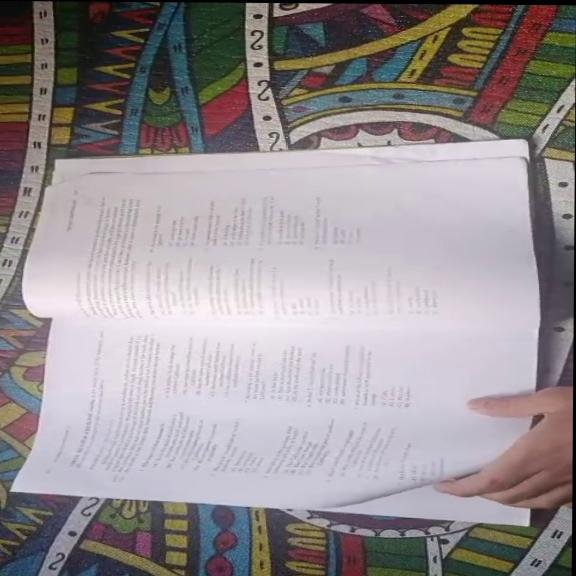Kertas: (8, 316, 535, 513), (20, 150, 543, 323)
